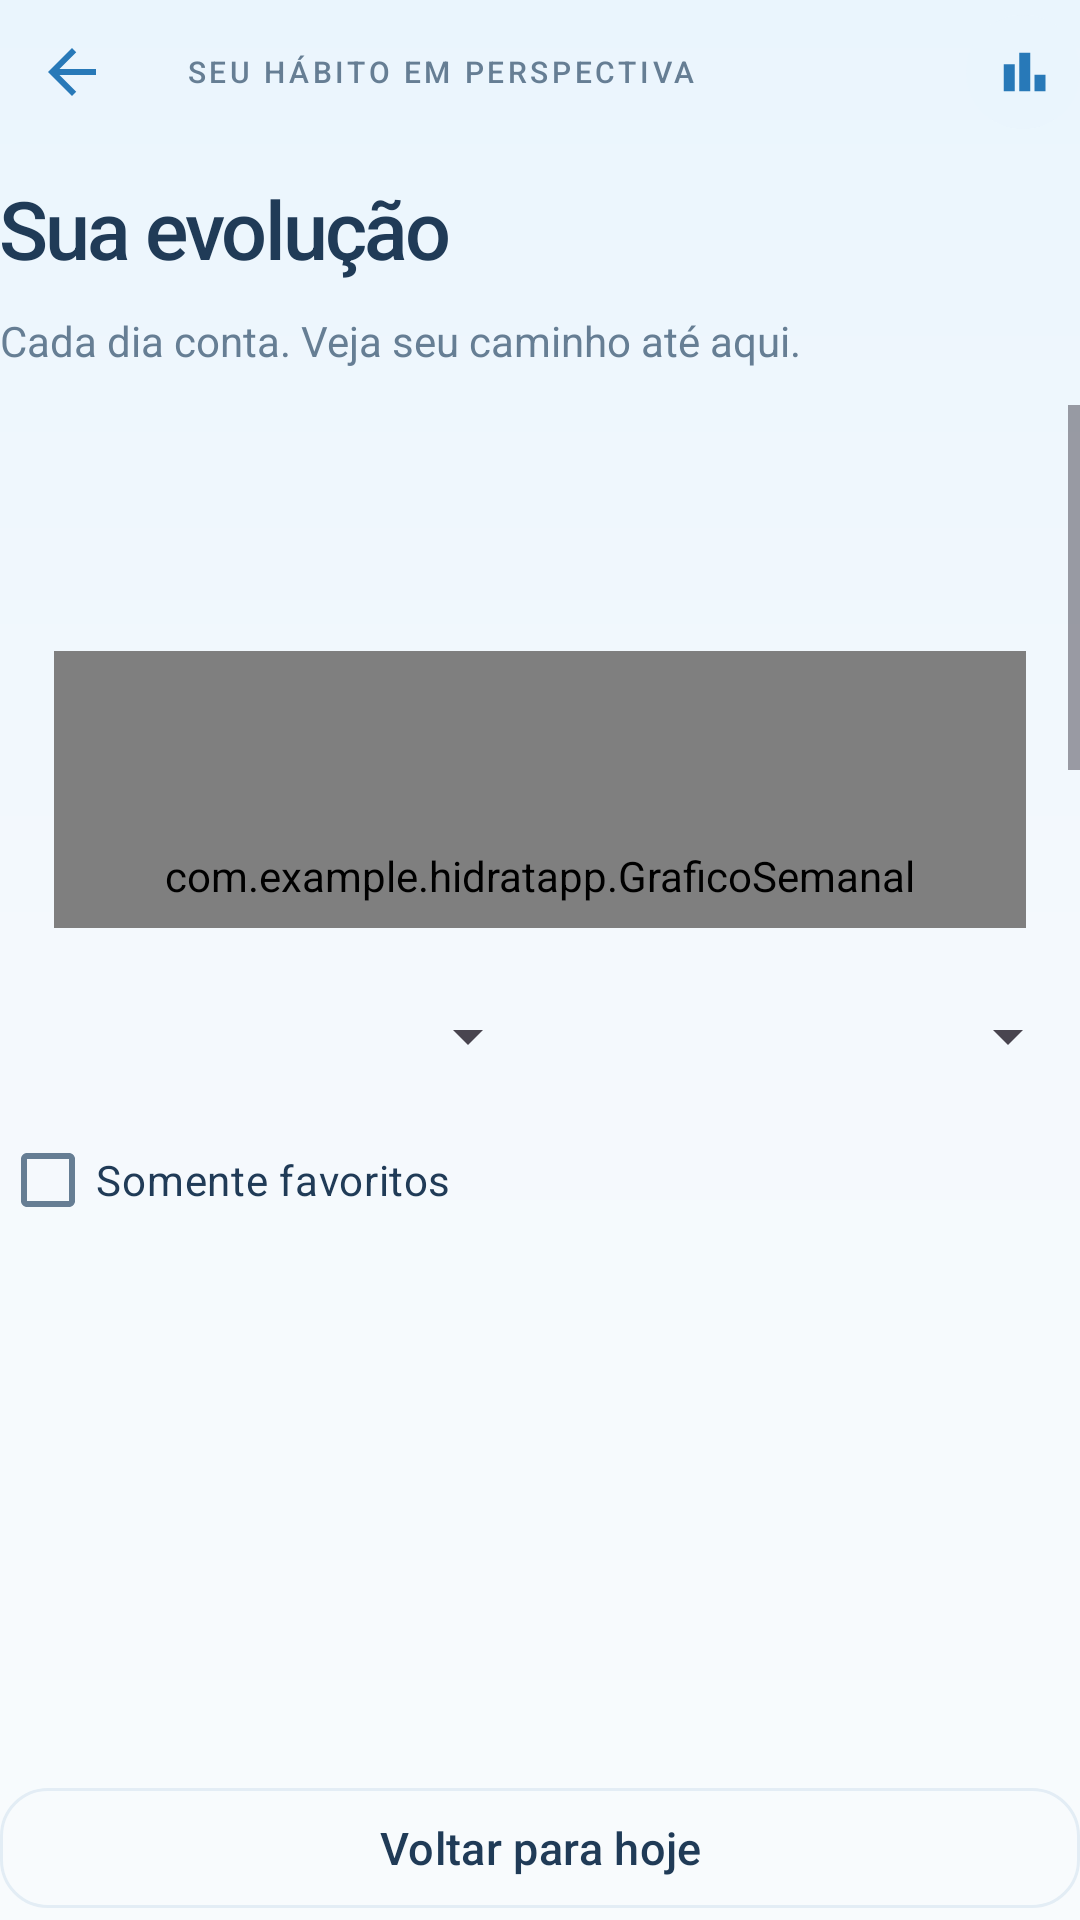

Locate icon controls on the screen. Image size 1080px×1920px, boxes as (x1, y1, x2, y2).
chart bar: (1003, 52, 1046, 92)
Voltar: (48, 48, 96, 96)
